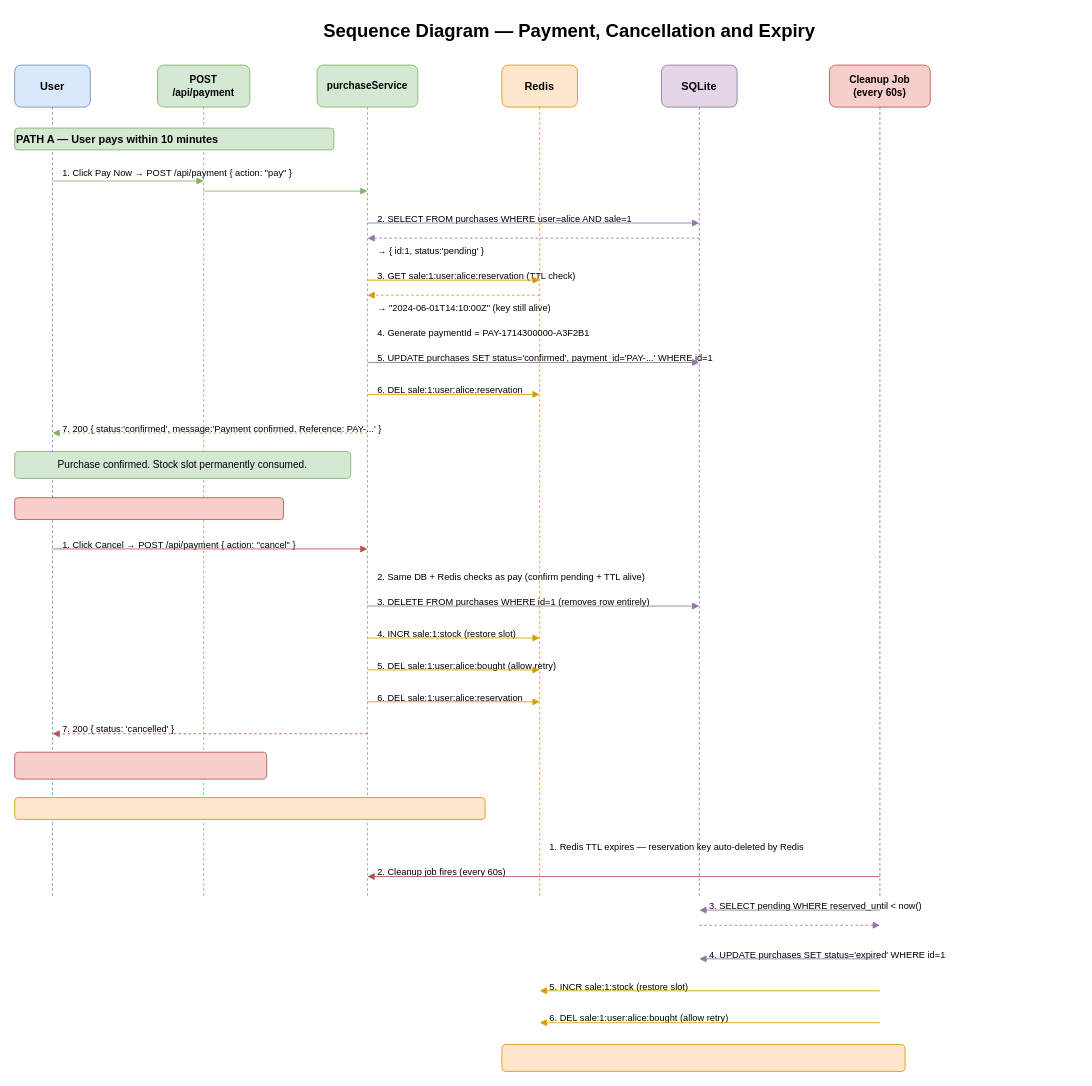
Some shapes in this 1092 by 1086 pixel diagram are drawn without their labels. Here are the shapes that lost their labels. From the top down, the centre of each, then its label:
[149,508]: PATH B — User cancels reservation
[140,765]: Slot restored. User can reserve again.
[249,808]: PATH C — 10 min passes, user does nothing (automatic cleanup)
[703,1057]: Slot automatically restored. Next poll of /api/sale shows stock +1.
